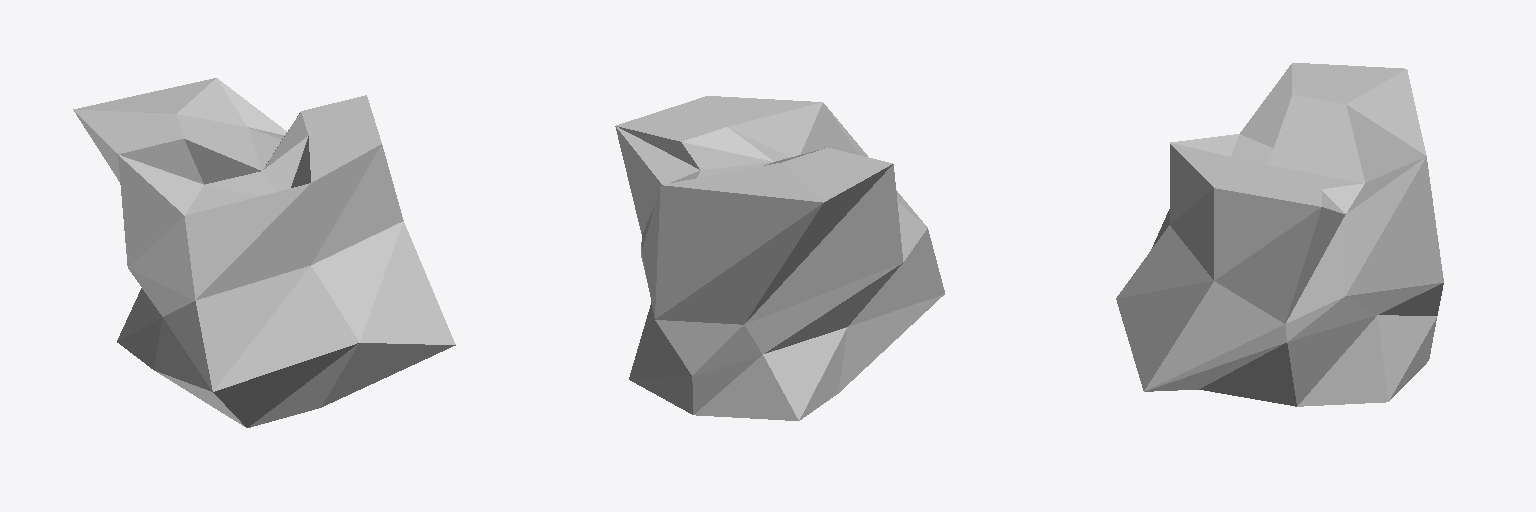
Rendered from asteroid4.obj.
The picture shows the model from 3 angles: view 1: azimuth 30°, elevation 25°; view 2: azimuth 150°, elevation 25°; view 3: azimuth 270°, elevation 25°; orthographic projection.
Visible parts, largest first — view 1: pCylinder1; view 2: pCylinder1; view 3: pCylinder1.
Part boxes in pixels (x1,y1,x2,y2): pCylinder1: (73,78,455,427); pCylinder1: (615,96,944,420); pCylinder1: (1116,63,1443,406).
Size of the model in its own units: 2.59 by 2.42 by 2.79.